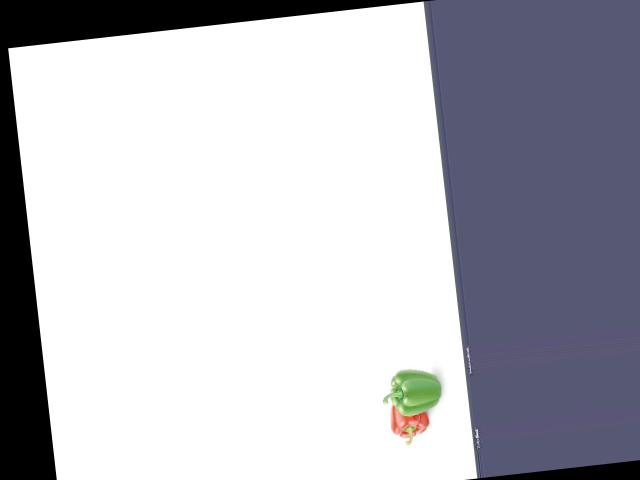bell_pepper: (383, 399, 430, 446)
